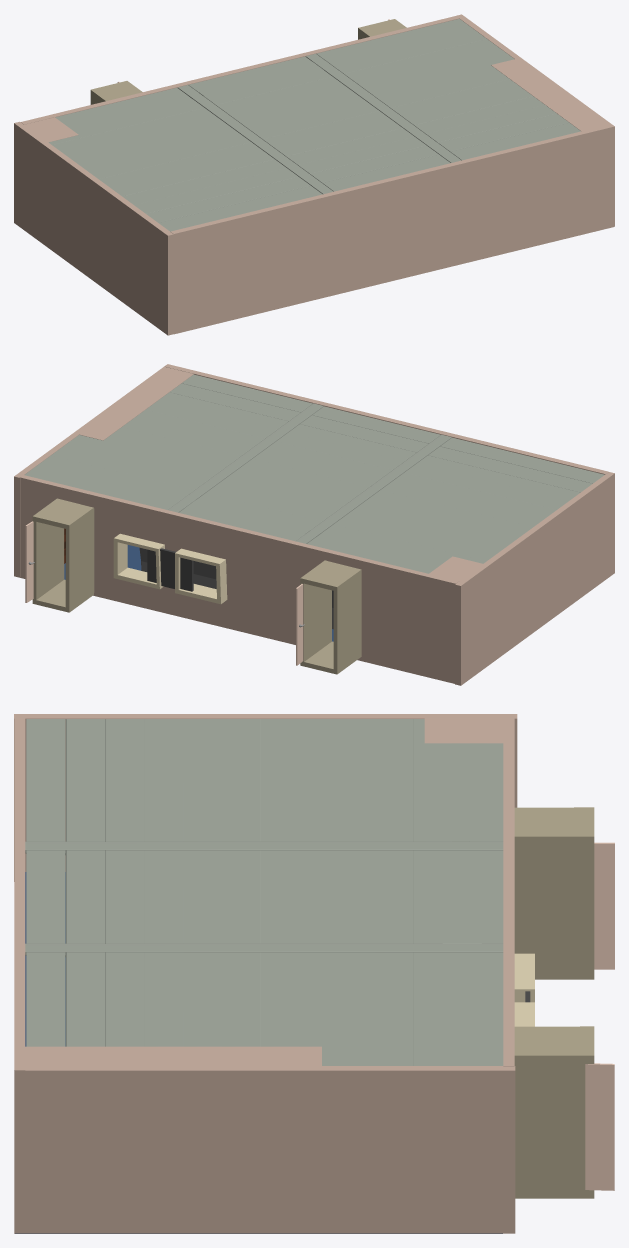
File: box in meter.fbx
The picture shows the model from 3 angles, top to bottom: view 1: azimuth 30°, elevation 25°; view 2: azimuth 150°, elevation 25°; view 3: azimuth 270°, elevation 25°; orthographic projection. The views are drawn at different scales.
Visible parts, largest first — view 1: polySurface19037, polySurface16903, polySurface16902, polySurface19046, polySurface16901, polySurface19068, polySurface19044, pCube46, pCube18; view 2: polySurface19037, polySurface16901, polySurface16902, pCube18, pCube46, polySurface19046, polySurface16903, pCube44, polySurface19068, pCube43, polySurface19077, polySurface19045 (+4 smaller); view 3: polySurface19037, polySurface19068, pCube46, pCube18, polySurface19046, polySurface16903, polySurface16901, pCube45, polySurface16902, pCube47, polySurface19044, pCube43 (+1 smaller).
Boxes of the visible parts, x1,y1,x2,y2 form: polySurface19037: [48, 19, 580, 231]; polySurface16903: [170, 124, 614, 334]; polySurface16902: [14, 121, 173, 335]; polySurface19046: [491, 58, 605, 131]; polySurface16901: [21, 15, 459, 124]; polySurface19068: [457, 14, 614, 225]; polySurface19044: [24, 117, 78, 142]; pCube46: [90, 81, 142, 104]; pCube18: [358, 19, 406, 39]; polySurface19037: [24, 374, 604, 573]; polySurface16901: [20, 475, 458, 683]; polySurface16902: [455, 472, 614, 685]; pCube18: [32, 498, 94, 612]; pCube46: [300, 560, 361, 674]; polySurface19046: [78, 367, 193, 440]; polySurface16903: [164, 364, 608, 474]; pCube44: [113, 533, 164, 589]; polySurface19068: [14, 365, 167, 577]; pCube43: [175, 548, 227, 604]; polySurface19077: [151, 548, 193, 591]; polySurface19045: [147, 549, 188, 590]; polySurface19037: [25, 719, 503, 1065]; polySurface19068: [15, 1066, 515, 1233]; pCube46: [514, 807, 594, 979]; pCube18: [514, 1026, 594, 1198]; polySurface19046: [25, 1046, 321, 1067]; polySurface16903: [14, 718, 25, 1233]; polySurface16901: [503, 718, 514, 1066]; pCube45: [585, 1063, 614, 1190]; polySurface16902: [14, 714, 517, 881]; pCube47: [594, 842, 614, 969]; polySurface19044: [424, 716, 503, 743]; pCube43: [514, 953, 534, 1002].
Size of the model in its own units: 11.11 by 2.38 by 7.91.
